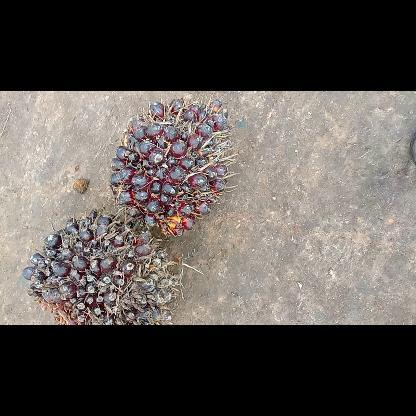TBS mentah: (108, 91, 232, 239), (20, 212, 176, 324)
